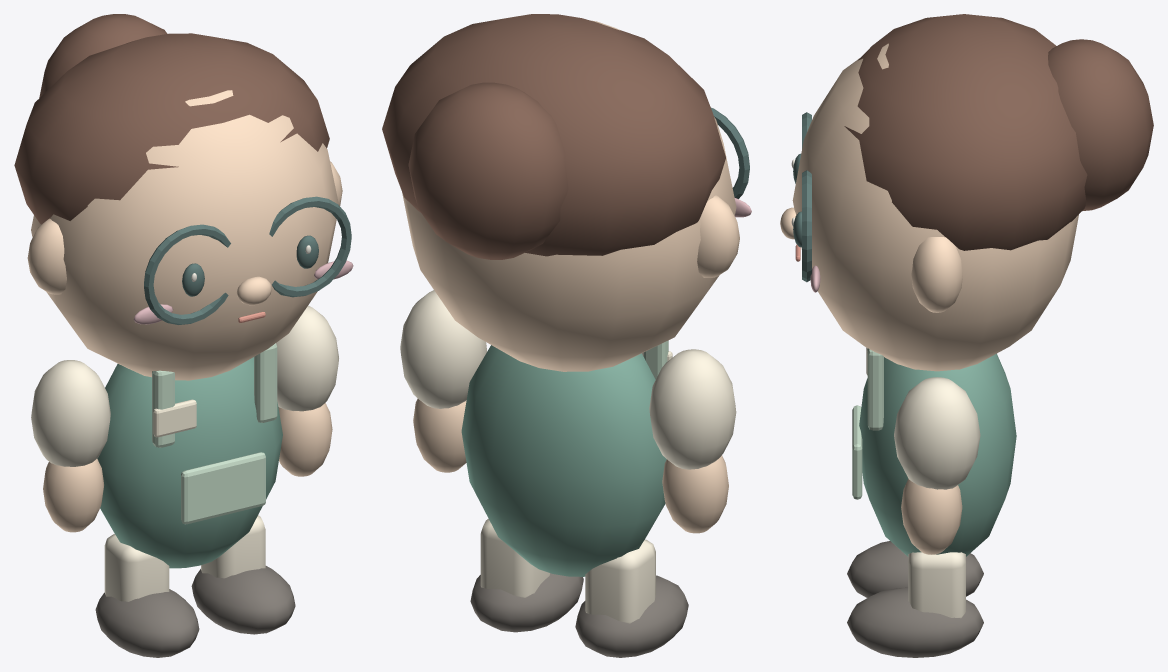
File: librarian.glb
3 renders of one model, left to right at view 1: azimuth 30°, elevation 25°; view 2: azimuth 150°, elevation 25°; view 3: azimuth 270°, elevation 25°, orthographic. The views are drawn at different scales.
Visible parts, largest first — view 1: librarian, arm.L, leg.L, arm.R, leg.R; view 2: librarian, arm.L, arm.R, leg.L, leg.R; view 3: librarian, arm.R, leg.R, leg.L.
Part boxes in pixels (x1,y1,x2,y2): librarian: (14, 14, 353, 568); arm.L: (31, 360, 110, 532); leg.L: (95, 534, 199, 657); arm.R: (276, 305, 338, 476); leg.R: (191, 515, 295, 634); librarian: (382, 14, 751, 576); arm.L: (649, 349, 736, 533); arm.R: (400, 290, 487, 472); leg.L: (575, 539, 688, 657); leg.R: (470, 519, 583, 632); librarian: (780, 14, 1153, 556); arm.R: (894, 377, 980, 554); leg.R: (847, 552, 983, 657); leg.L: (847, 541, 983, 597).
Size of the model in its own units: 1.03 by 1.81 by 1.04.
